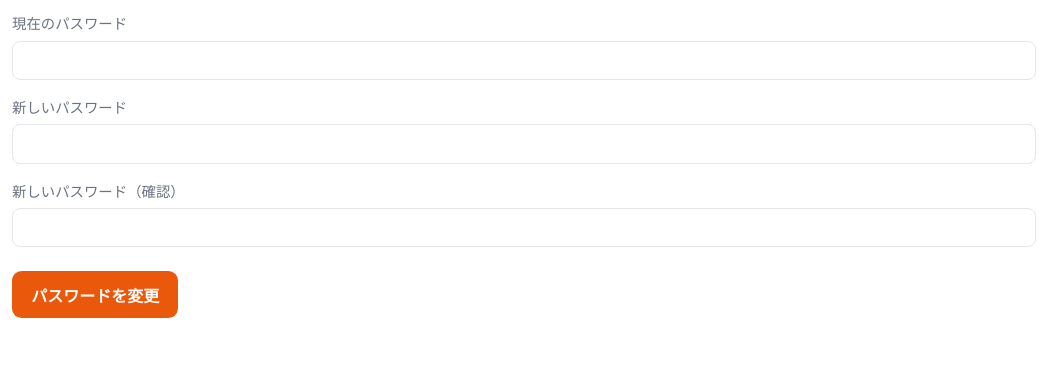
Test: ChangePasswordForm › 確認が一致しないと error、再認証 SDK を呼ばない (非空虚)
Type "oldpass12" into the password field labelled "現在のパスワード" at (524, 60), box [12,41,1036,80]
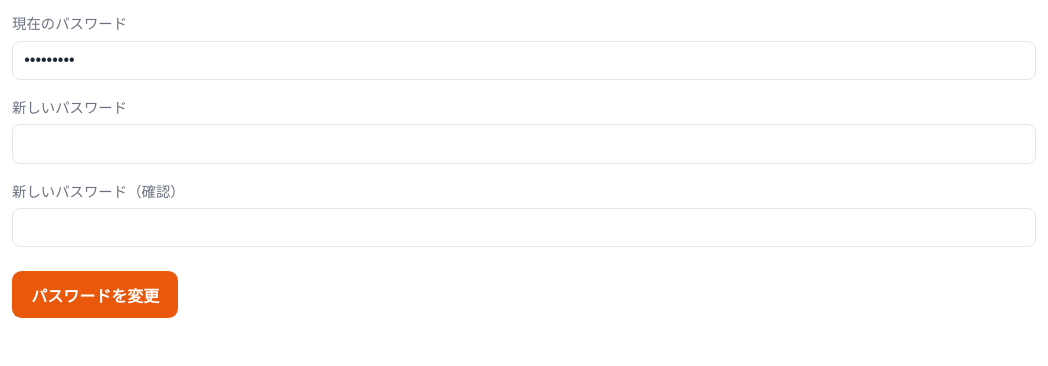
Type "newpassword1" into the password field labelled "新しいパスワード" at (524, 144), box [12,124,1036,164]
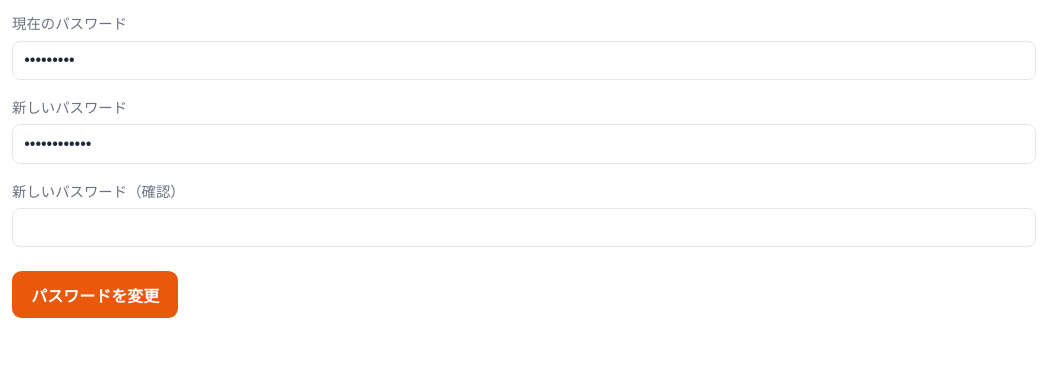
Type "different123" into the password field labelled "新しいパスワード（確認）" at (524, 228), box [12,208,1036,248]
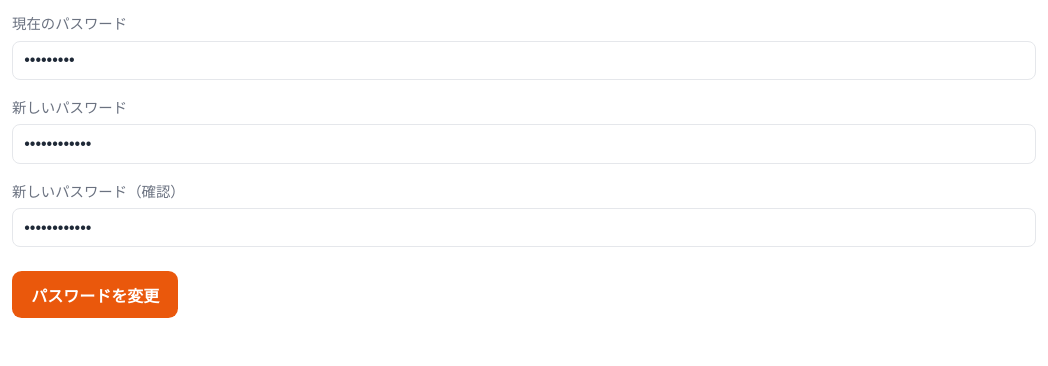
Click the button "パスワードを変更" at (95, 295), box [12,272,178,318]
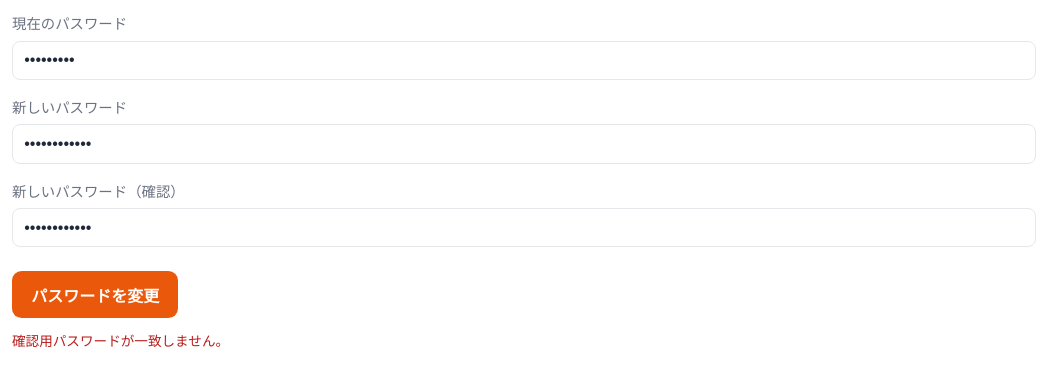
Check: the text "確認用パスワードが一致しません。" is shown, box [12,331,229,350]
